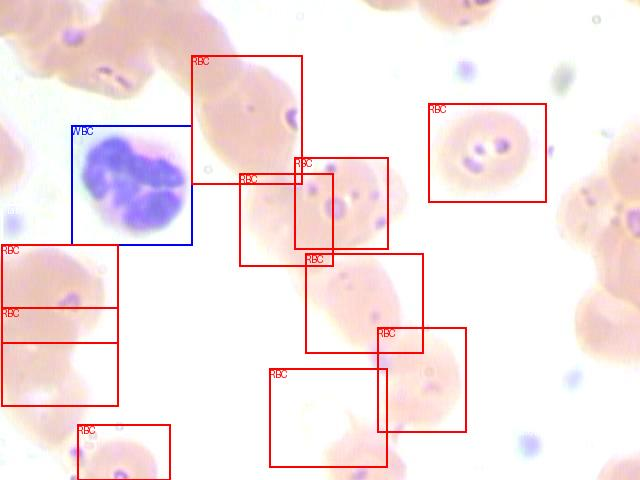Platelets: (450, 51, 490, 88), (554, 360, 594, 397), (511, 425, 551, 462), (1, 204, 39, 241)
RBC: (191, 55, 302, 184), (305, 253, 423, 353), (428, 103, 546, 202), (269, 368, 387, 467), (1, 244, 118, 343), (1, 307, 118, 406), (377, 327, 466, 432), (239, 173, 333, 266), (294, 157, 388, 249), (77, 424, 170, 480)
WBC: (71, 125, 192, 245)
